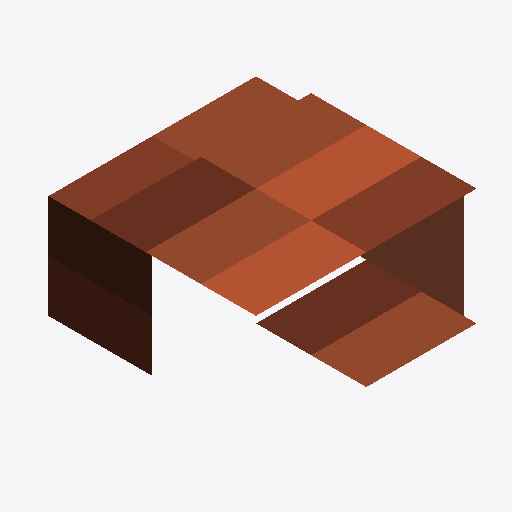
A Minecraft block model of 6 cuboids, rendered isometrically (azimuth 45°, elevation 35.3°) with the resource pack's own textures.
Visible parts, largest first — bottom_outer, bottom_inner.
Boxes of the visible parts, box(x1,y1,x2,y2) form: bottom_outer: box(91, 93, 475, 386); bottom_inner: box(48, 77, 463, 374).
Bounding box in the file's own units: 8.5 × 4.5 × 8.5.